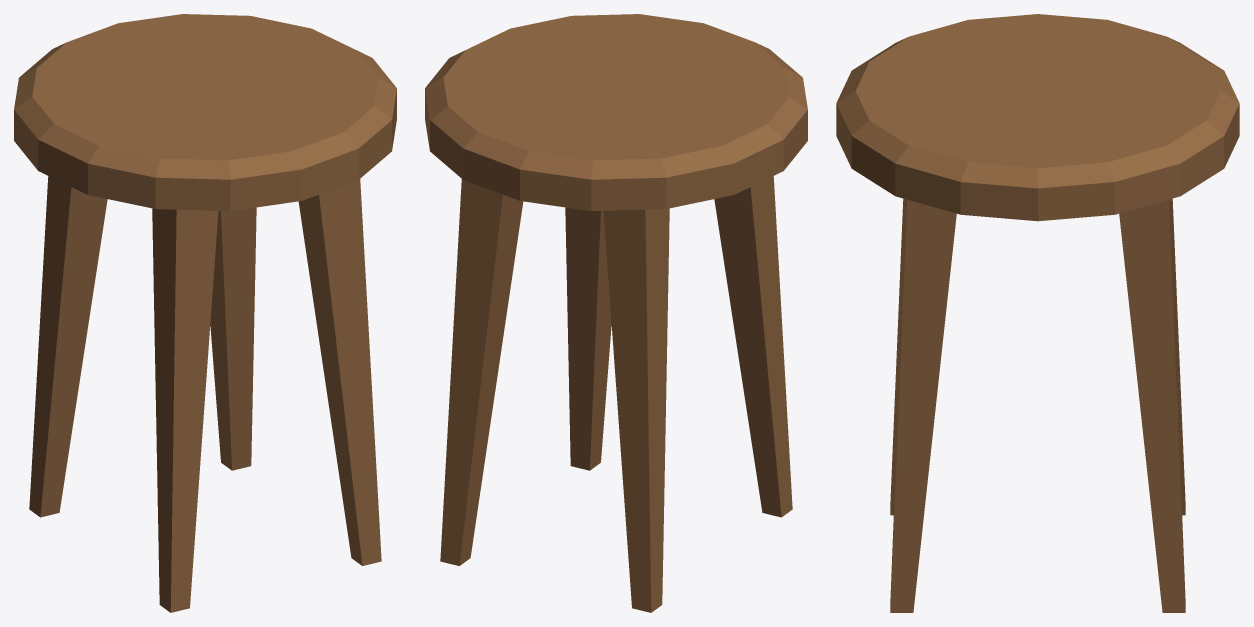
File: stool.glb
3 renders of one model, left to right at view 1: azimuth 30°, elevation 25°; view 2: azimuth 150°, elevation 25°; view 3: azimuth 270°, elevation 25°, orthographic. The views are drawn at different scales.
Visible parts, largest first — view 1: Stool; view 2: Stool; view 3: Stool.
Boxes of the visible parts, x1,y1,x2,y2 form: Stool: [14, 14, 396, 612]; Stool: [425, 14, 807, 612]; Stool: [836, 14, 1239, 612].
Size of the model in its own units: 0.5947 by 0.7616 by 0.5947.
Materials: 1 (1 with a texture image).
